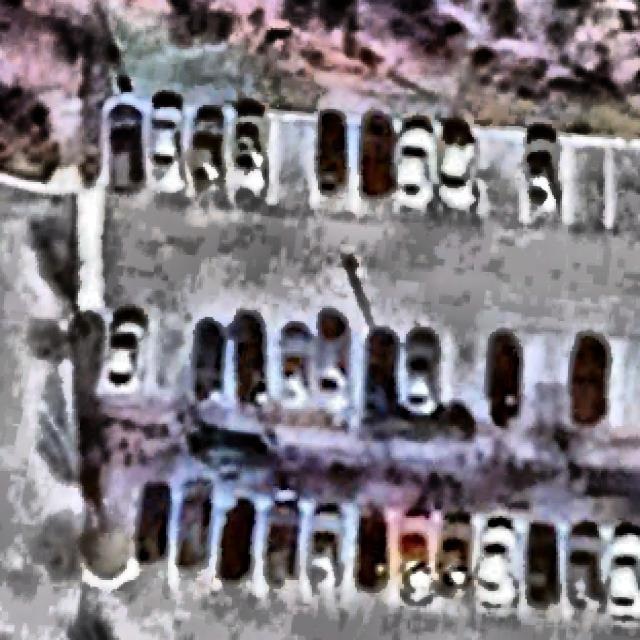Car: (396, 327, 452, 422), (438, 124, 488, 210), (570, 331, 610, 436), (270, 320, 314, 409), (398, 119, 440, 211), (473, 527, 522, 605), (568, 518, 607, 615), (233, 103, 273, 187), (314, 317, 351, 407), (522, 129, 560, 216), (222, 486, 252, 592), (357, 109, 391, 202), (179, 475, 209, 577), (441, 520, 479, 598), (609, 524, 640, 618), (262, 490, 292, 586), (198, 317, 228, 412), (491, 335, 520, 431), (235, 318, 268, 402), (526, 530, 562, 606), (401, 512, 430, 606), (316, 110, 347, 197), (106, 99, 134, 192), (148, 101, 176, 192), (312, 499, 338, 595), (136, 475, 164, 564), (192, 101, 222, 184), (109, 312, 136, 396), (361, 500, 382, 591), (373, 324, 392, 418)
Empty: (522, 336, 567, 426), (276, 112, 317, 205), (448, 332, 487, 424), (570, 142, 612, 226), (150, 317, 191, 396), (609, 135, 640, 229), (488, 135, 521, 223), (617, 336, 640, 435)
